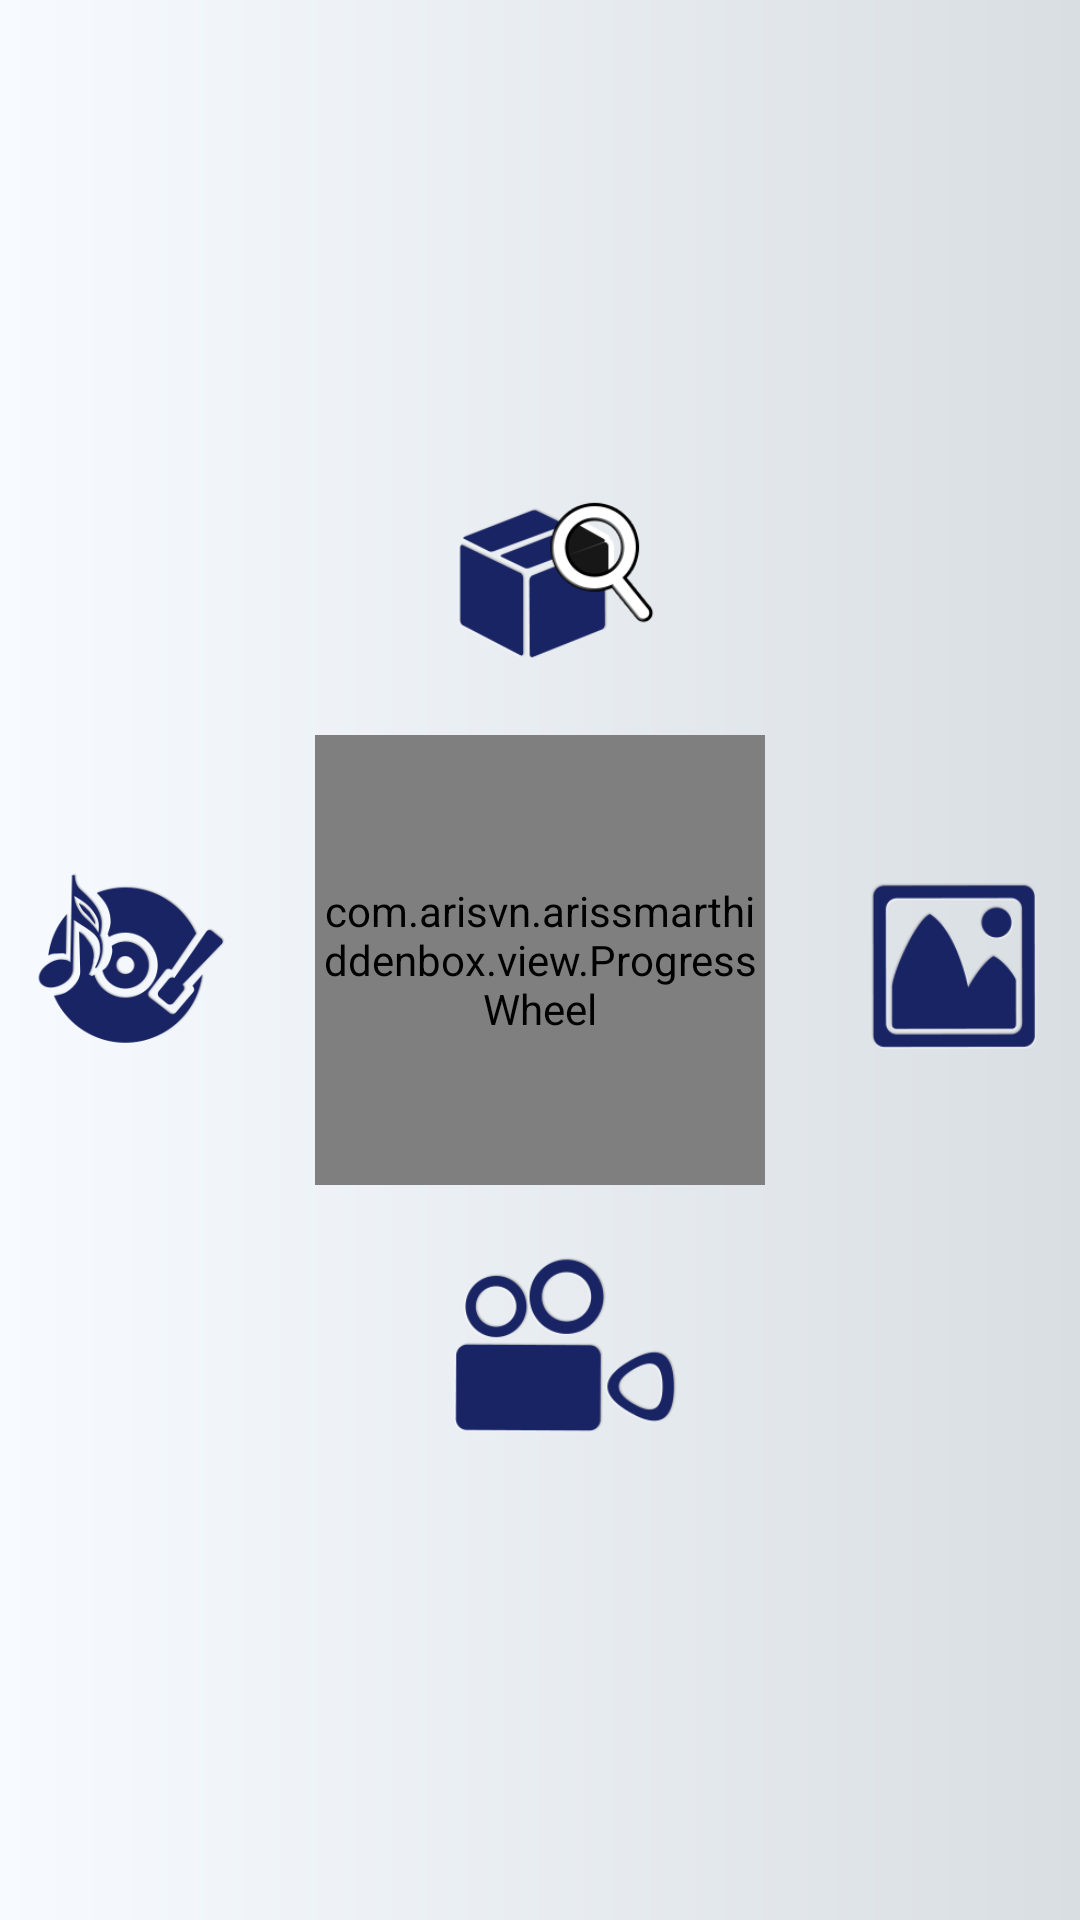

Screen size 1080w x 1920h. Icon name, then its center in pixels as [x,y]:
audio: [131,958]
catagory: [556,580]
photo: [953,965]
video: [565,1344]
